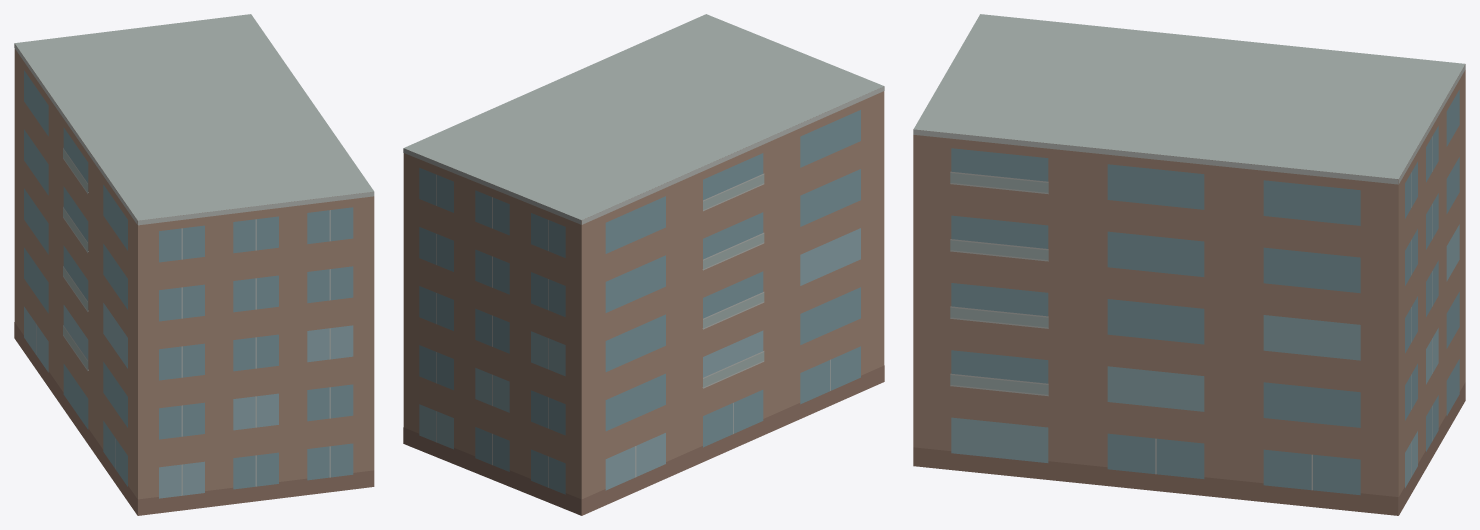
Rendered from survey-upis-32746409.glb.
3 views of the same model, side by side, from view 1: azimuth 30°, elevation 25°; view 2: azimuth 150°, elevation 25°; view 3: azimuth 270°, elevation 25° (orthographic). The views are drawn at different scales.
Visible parts, largest first — view 1: survey-upis-32746409.tmp; view 2: survey-upis-32746409.tmp; view 3: survey-upis-32746409.tmp.
Part boxes in pixels (bbox=[...]): survey-upis-32746409.tmp: bbox=[14, 14, 374, 515]; survey-upis-32746409.tmp: bbox=[403, 14, 884, 515]; survey-upis-32746409.tmp: bbox=[913, 14, 1465, 515].
Bounding box in the file's own units: 16.06 × 15.25 × 22.68.
